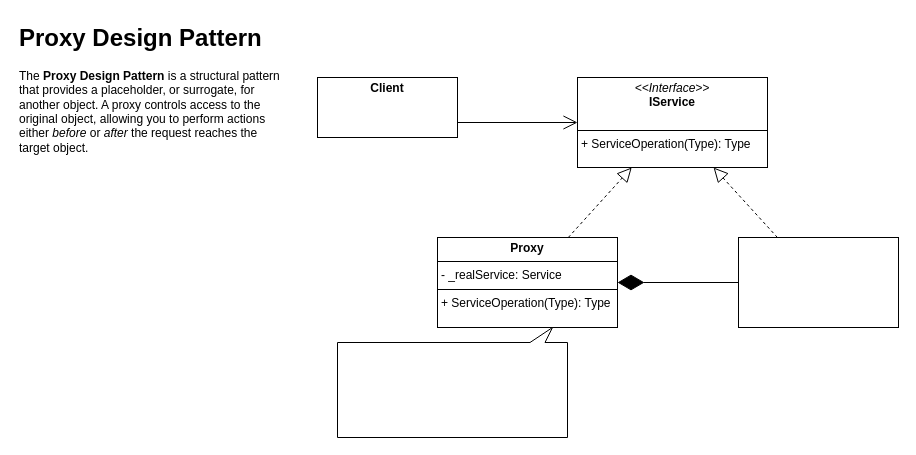
The diagram is 916 pixels wide and 455 high, and some of its shapes have lost their labels. The shapes that lost their labels are listed below. From the top down, each one's centre as x and y in pixels, then its label:
At [818,282]: "Service + field: Type + ServiceOperation(Type): Type".
At [452,382]: "Checks... _realService.ServiceOperation(Type)".
